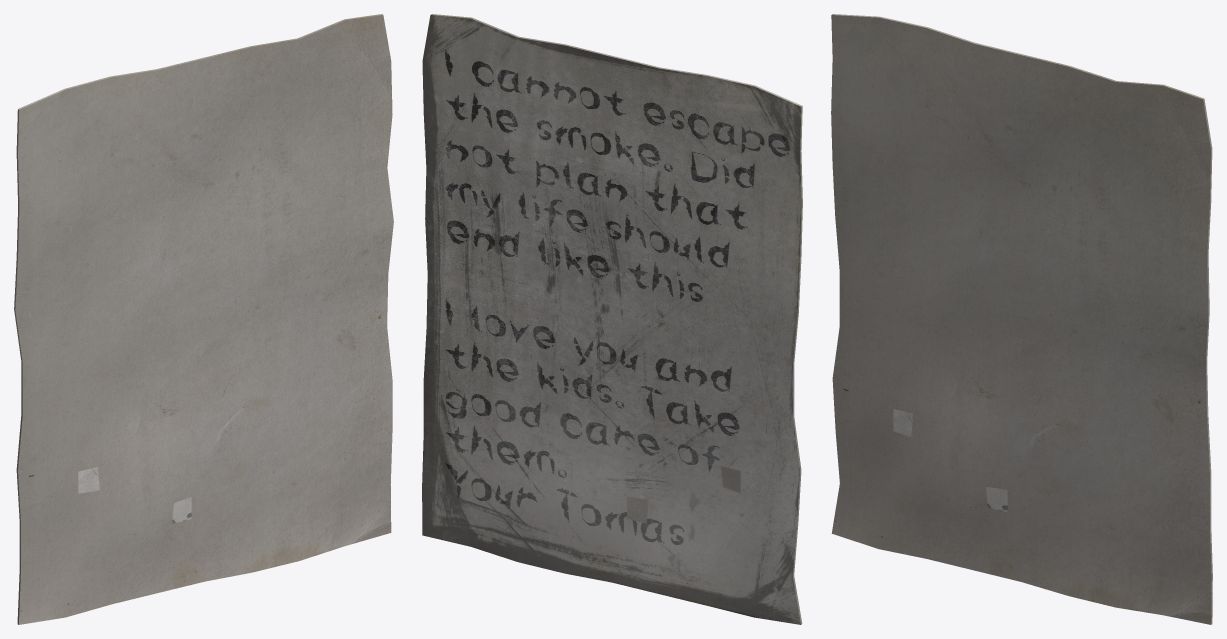
The model's file is GoodbyeNote.fbx.
3 views of the same model, side by side, from view 1: azimuth 30°, elevation 25°; view 2: azimuth 150°, elevation 25°; view 3: azimuth 330°, elevation 25° (orthographic).
Parts seen in each view (by area): view 1: Note; view 2: Note; view 3: Note.
Boxes of the visible parts, x1=… form: Note: x1=14, y1=14, x2=393, y2=624; Note: x1=422, y1=14, x2=802, y2=624; Note: x1=831, y1=14, x2=1212, y2=624.
Bounding box in the file's own units: 23.46 × 31.69 × 0.9146.
2 materials, 2 textured.
